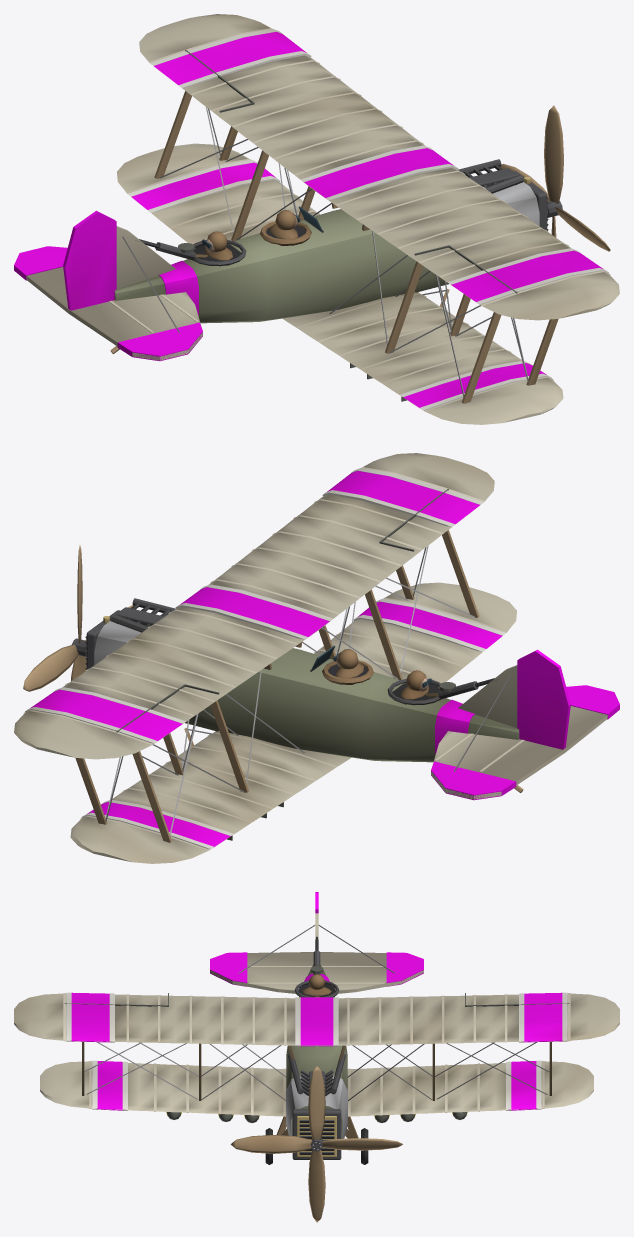
File: biplane_bomber.glb
3 views of the same model, one above another, from view 1: azimuth 30°, elevation 25°; view 2: azimuth 150°, elevation 25°; view 3: azimuth 270°, elevation 25° (orthographic). The views are drawn at different scales.
Parts seen in each view (by area): view 1: Body, Propeller; view 2: Body, Propeller; view 3: Body, Propeller.
Boxes of the visible parts, x1,y1,x2,y2 form: Body: [14, 14, 619, 424]; Propeller: [500, 105, 610, 251]; Body: [14, 453, 619, 863]; Propeller: [23, 545, 133, 691]; Body: [14, 892, 619, 1164]; Propeller: [230, 1066, 402, 1222].
Bounding box in the file's own units: 5.03 × 2.05 × 7.
Materials: 1 (1 with a texture image).
